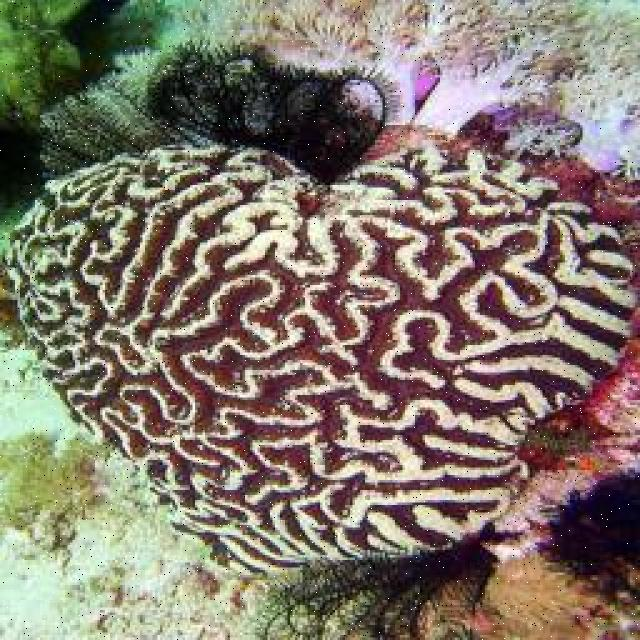aquatic plants: (145, 47, 378, 179), (253, 531, 529, 640), (537, 468, 638, 622)
reefs: (1, 124, 637, 580), (33, 0, 638, 178), (1, 432, 109, 529), (485, 546, 596, 638)
